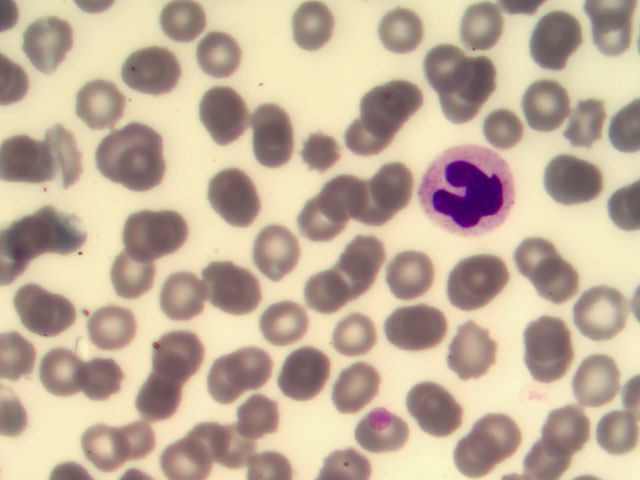Platelets: (370, 407, 395, 428)
RBC: (20, 15, 80, 76), (71, 73, 131, 134), (120, 41, 180, 102), (187, 31, 247, 92), (195, 87, 255, 148), (249, 85, 309, 146), (247, 113, 307, 174), (300, 121, 360, 182), (326, 108, 386, 169), (354, 79, 414, 140), (389, 74, 449, 135), (417, 31, 477, 92), (442, 55, 502, 116), (433, 70, 493, 131), (376, 5, 436, 66), (456, 4, 516, 65), (528, 15, 588, 76), (515, 77, 575, 138), (542, 82, 602, 143), (475, 102, 535, 163), (539, 152, 599, 213), (510, 225, 570, 286), (531, 252, 591, 313), (453, 255, 513, 316), (377, 243, 437, 304), (397, 288, 457, 349), (328, 306, 388, 367), (302, 263, 362, 324), (331, 241, 391, 302), (335, 225, 395, 286), (251, 220, 311, 281), (293, 195, 353, 256), (319, 168, 379, 229), (364, 162, 424, 223), (207, 167, 267, 228), (125, 204, 185, 265), (110, 237, 170, 298), (158, 265, 218, 326), (193, 256, 253, 317), (157, 318, 217, 379), (137, 356, 197, 417), (79, 348, 139, 409), (34, 345, 94, 406), (81, 290, 141, 351), (23, 284, 83, 345), (22, 203, 82, 264), (11, 129, 71, 190), (81, 414, 141, 475), (117, 405, 177, 466), (166, 419, 226, 480), (196, 412, 256, 473), (229, 391, 289, 452), (200, 345, 260, 406), (228, 333, 288, 394), (281, 344, 341, 405), (327, 354, 387, 415), (265, 297, 325, 358), (409, 379, 469, 440), (457, 419, 517, 480), (498, 411, 558, 472), (546, 399, 606, 460), (569, 348, 629, 409), (520, 323, 580, 384), (569, 286, 629, 347), (445, 320, 505, 381), (150, 1, 210, 61), (283, 1, 343, 60)
WBC: (421, 148, 518, 238)
